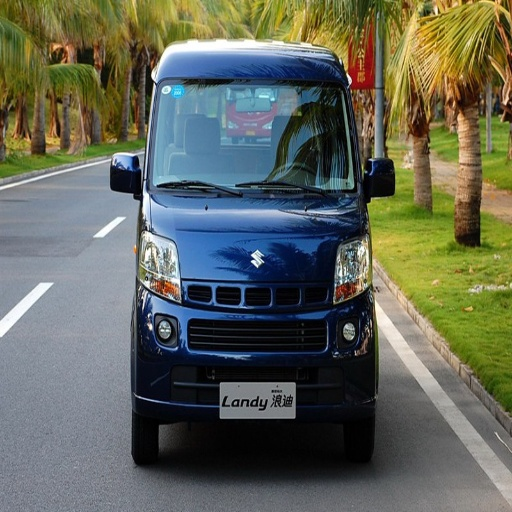front_bumper: (133, 269, 375, 423), (189, 233, 272, 270)
front_right_light: (138, 232, 184, 302)
hood: (148, 193, 363, 283)
left_mirror: (366, 156, 395, 199)
